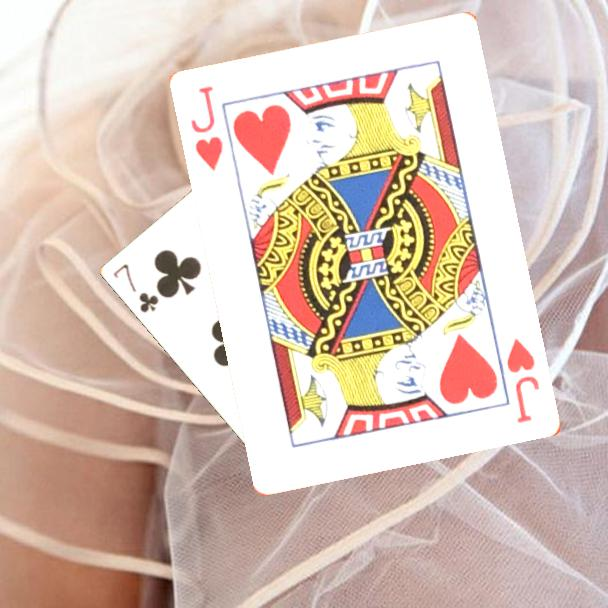c07: (109, 260, 161, 316)
h11: (503, 335, 543, 426), (188, 83, 227, 175)
